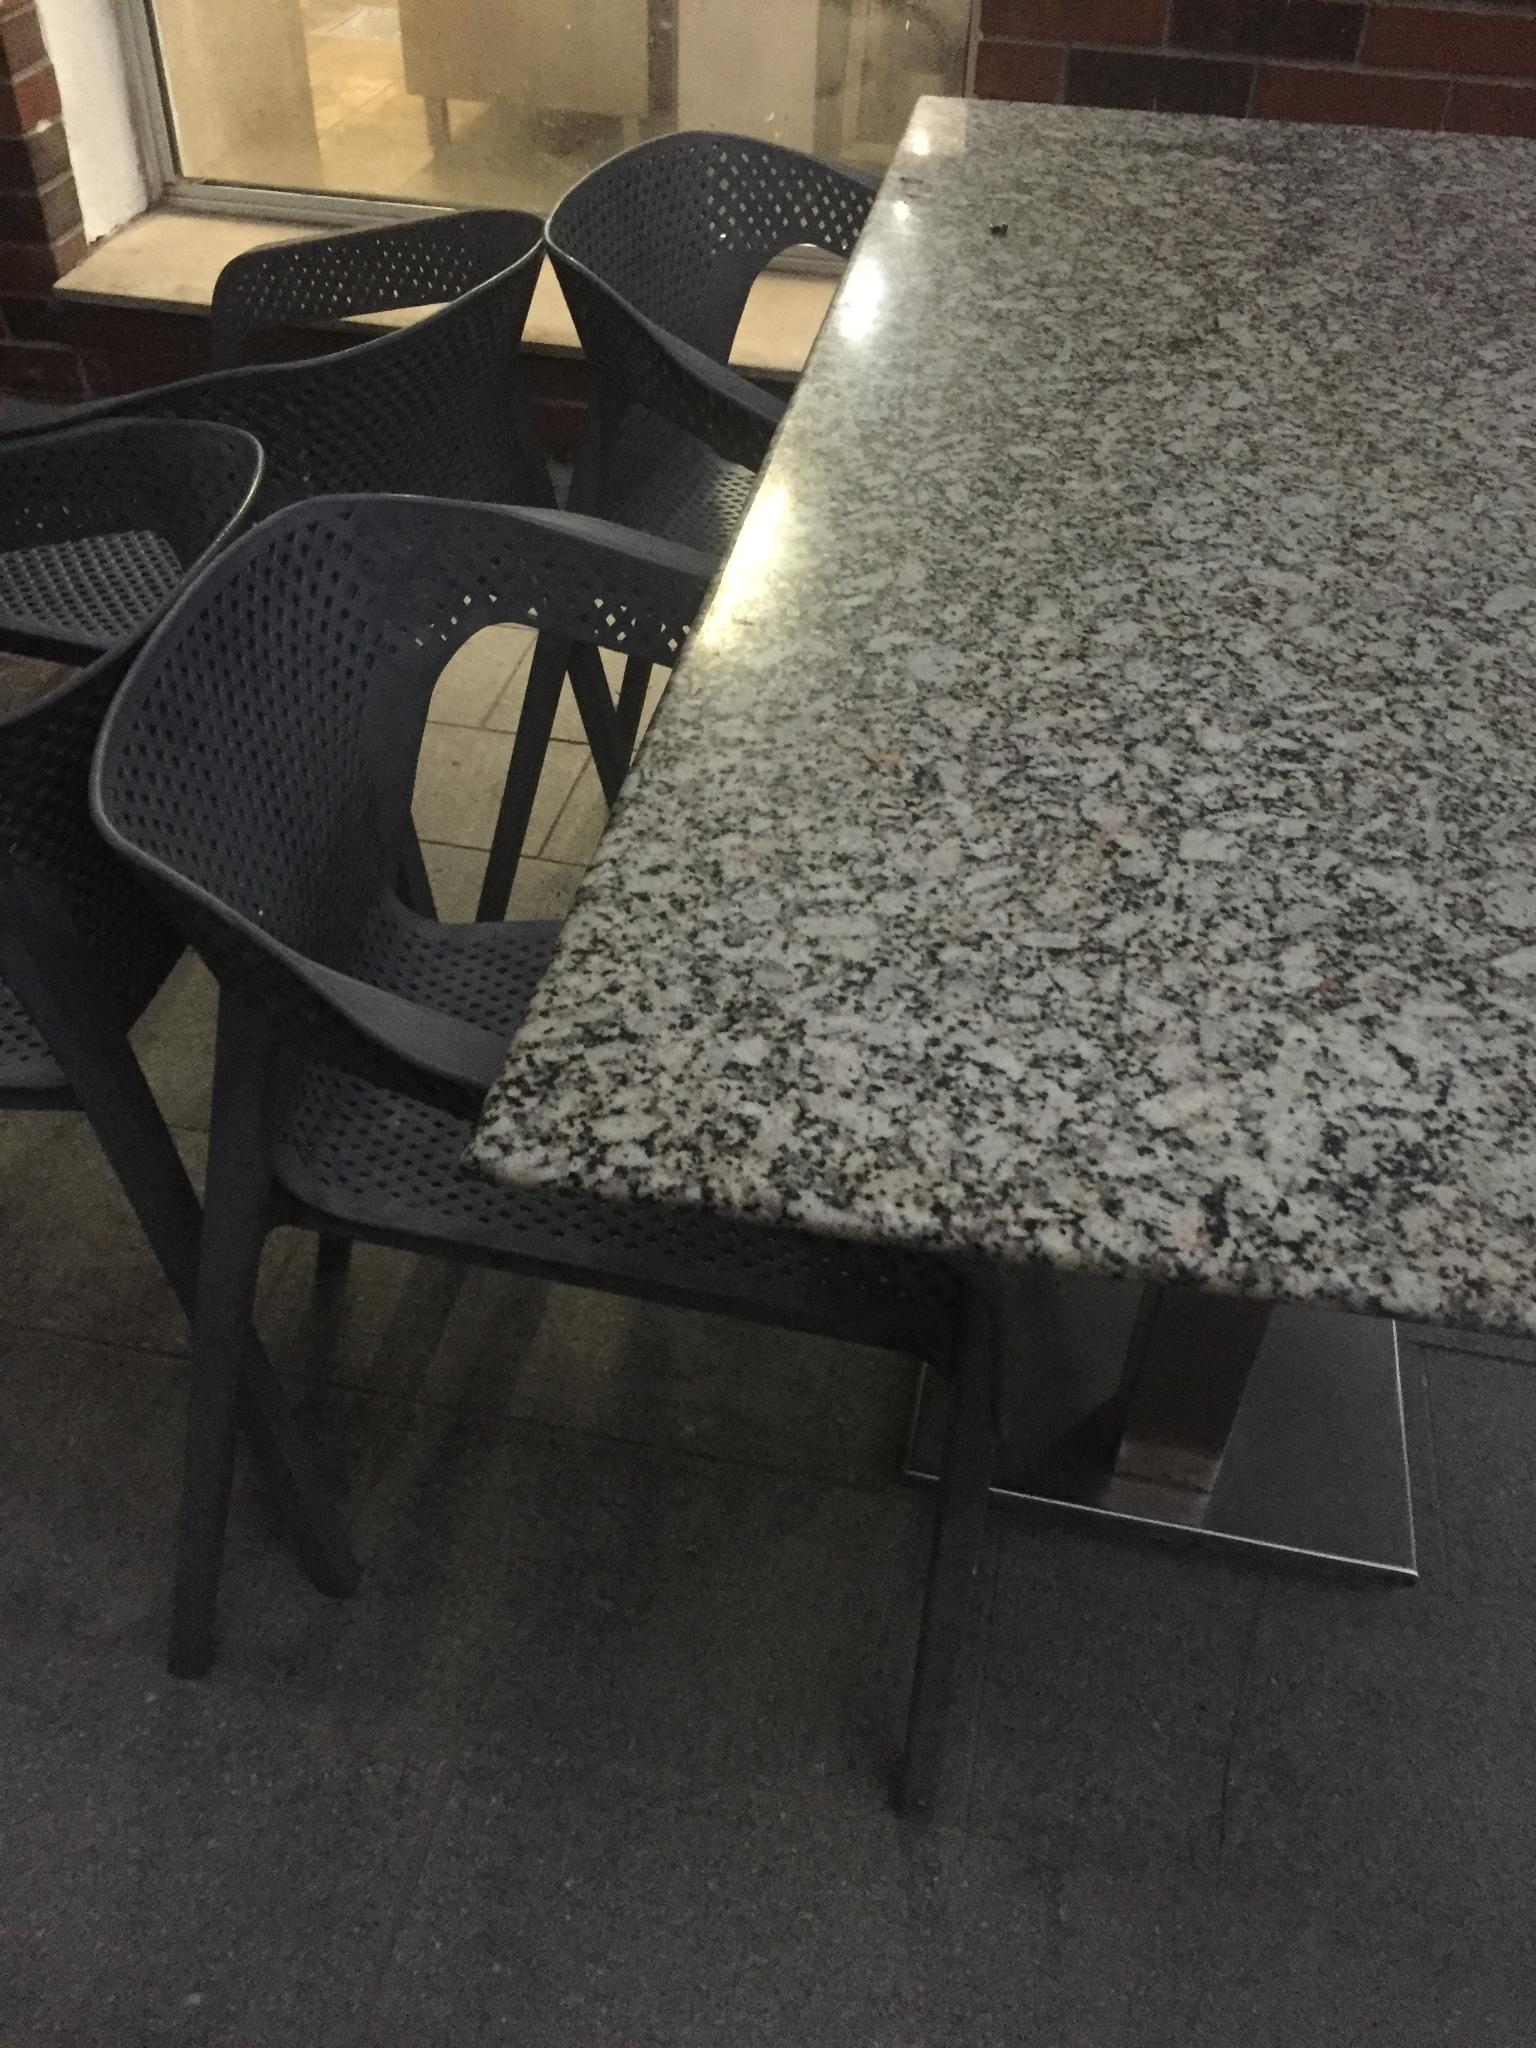chair: (261, 498, 957, 1830), (0, 410, 248, 1555), (126, 174, 541, 584), (565, 98, 900, 514)
